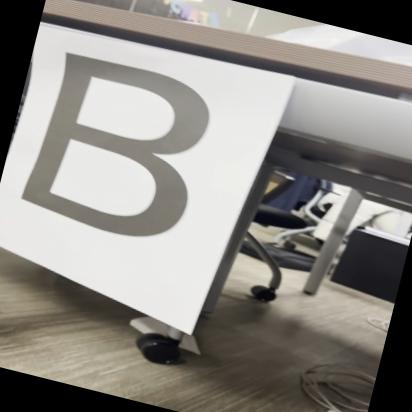seat: (11, 43, 235, 263)
